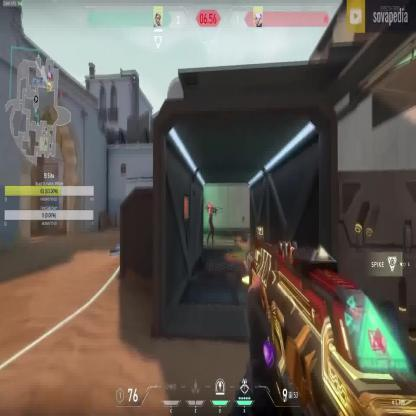enemy: (206, 201, 216, 244)
enemy_head: (209, 202, 214, 210)
